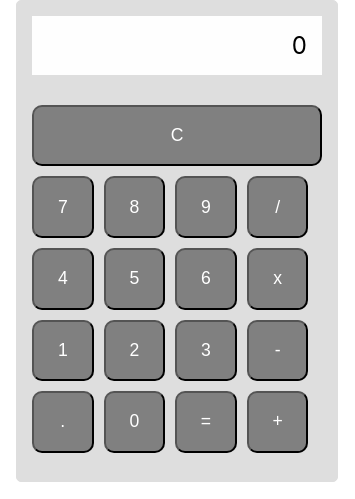
Calculator › should change running total on number enter
The width and height of the screenshot is (355, 499).
Click the button with id "number4".
click(63, 279)  # box left=32, top=248, right=94, bottom=310
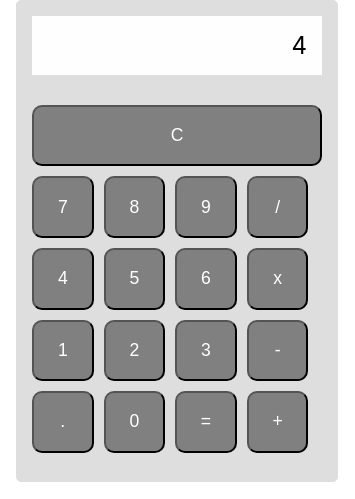
Now the text with id "running-total" reads "4", box left=292, top=31, right=307, bottom=60
